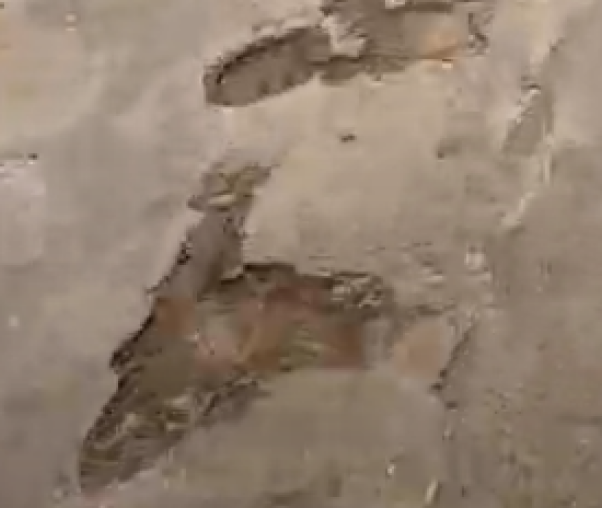Berlubang: (62, 154, 422, 504), (195, 1, 498, 114)
